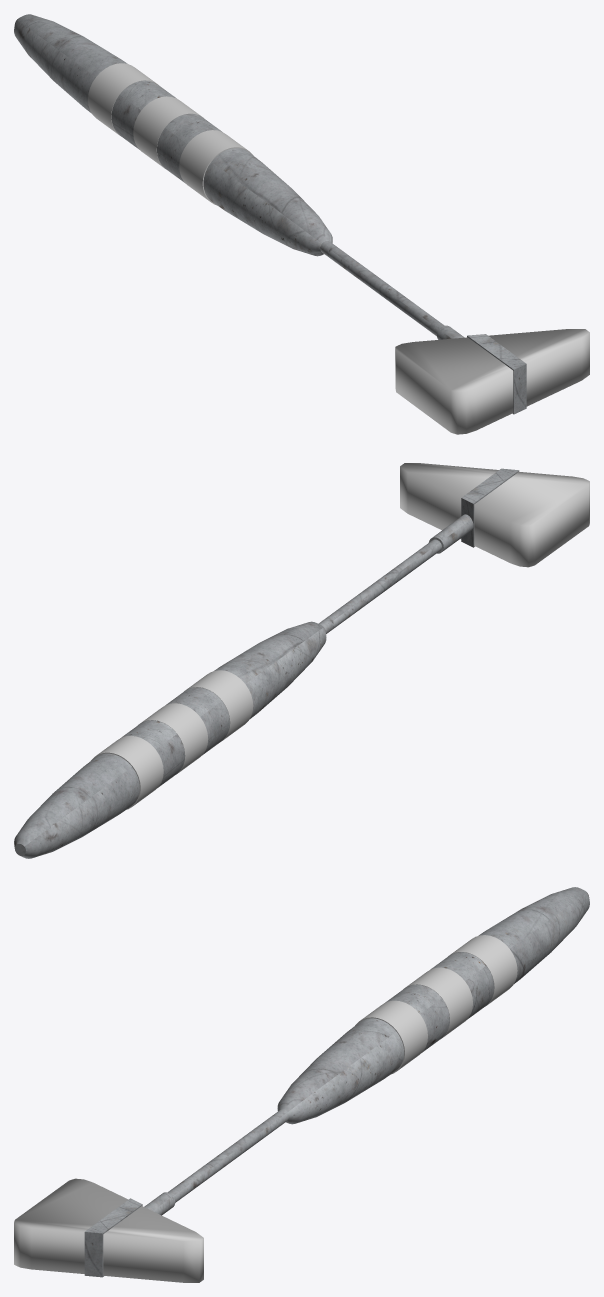
The model's file is hammer2.fbx.
3 renders of one model, top to bottom at view 1: azimuth 30°, elevation 25°; view 2: azimuth 150°, elevation 25°; view 3: azimuth 330°, elevation 25°, orthographic. The views are drawn at different scales.
Parts seen in each view (by area): view 1: Cylinder, Cylinder.005, Cylinder.001; view 2: Cylinder, Cylinder.005, Cylinder.001; view 3: Cylinder, Cylinder.005, Cylinder.001.
Part boxes in pixels (x1,y1,x2,y2): Cylinder: [14, 14, 526, 414]; Cylinder.005: [395, 329, 589, 434]; Cylinder.001: [88, 63, 253, 205]; Cylinder: [14, 468, 519, 858]; Cylinder.005: [400, 463, 589, 567]; Cylinder.001: [91, 670, 253, 809]; Cylinder: [84, 887, 589, 1277]; Cylinder.005: [14, 1178, 203, 1282]; Cylinder.001: [355, 935, 517, 1074].
Bounding box in the file's own units: 140 × 47.48 × 757.
